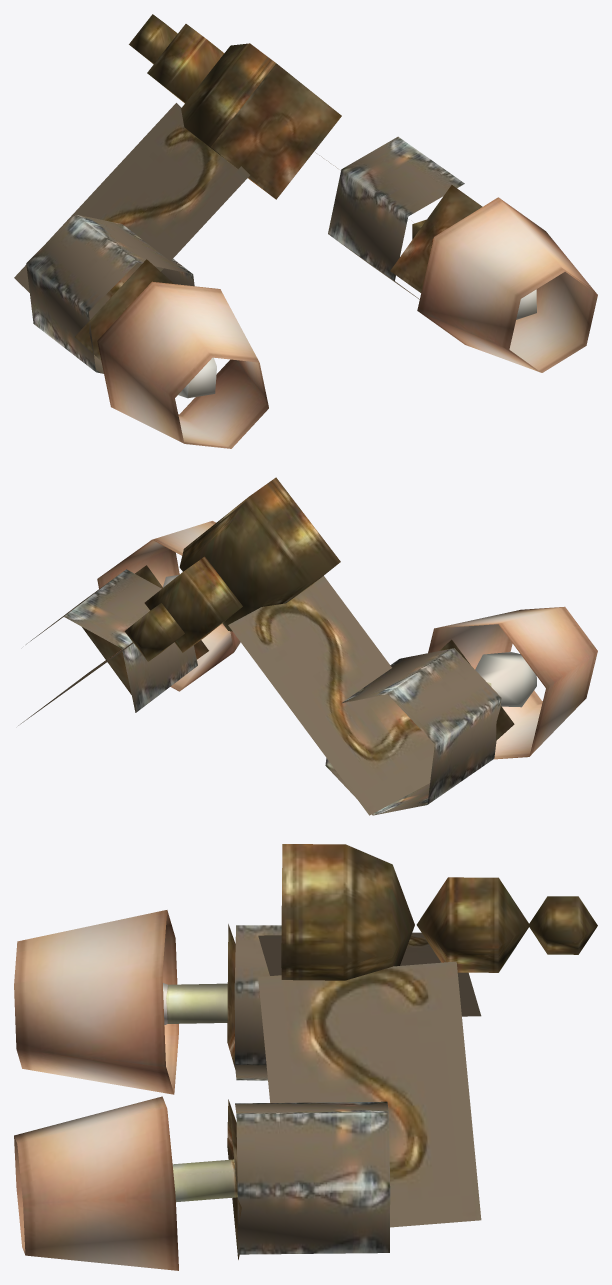
File: light_walllightcrystal_on.glb
The picture shows the model from 3 angles, top to bottom: view 1: azimuth 30°, elevation 25°; view 2: azimuth 150°, elevation 25°; view 3: azimuth 270°, elevation 25°; orthographic projection. The views are drawn at different scales.
Bounding box in the file's own units: 17.73 × 10.68 × 16.98.
3 materials, 3 textured.
